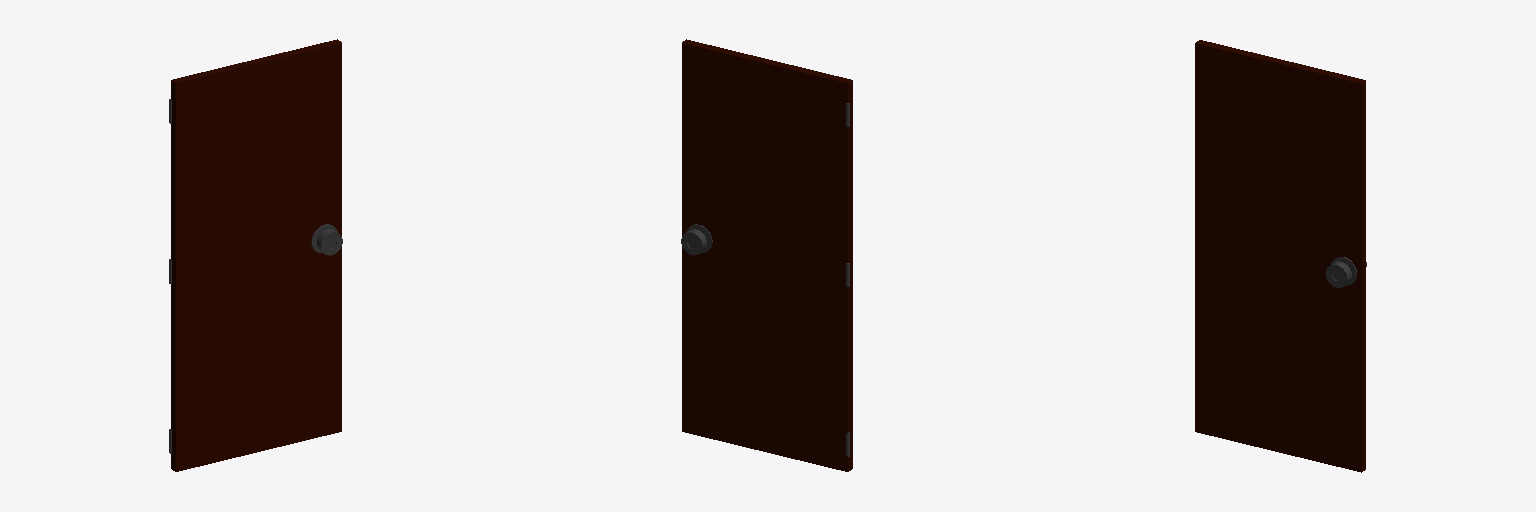
Rendered from door.obj.
The picture shows the model from 3 angles: view 1: azimuth 30°, elevation 25°; view 2: azimuth 150°, elevation 25°; view 3: azimuth 330°, elevation 25°; orthographic projection.
Visible parts, largest first — view 1: Cube.039_Cube.067, Cylinder.029_Cylinder.039; view 2: Cube.039_Cube.067, Cylinder.029_Cylinder.039; view 3: Cube.039_Cube.067, Cylinder.029_Cylinder.039.
Part boxes in pixels (x1,y1,x2,y2): Cube.039_Cube.067: (171,39,341,471); Cylinder.029_Cylinder.039: (311,224,342,255); Cube.039_Cube.067: (682,39,852,471); Cylinder.029_Cylinder.039: (681,224,712,255); Cube.039_Cube.067: (1195,40,1365,472); Cylinder.029_Cylinder.039: (1326,257,1366,287).
Bounding box in the file's own units: 2.01 × 4.44 × 0.4028.